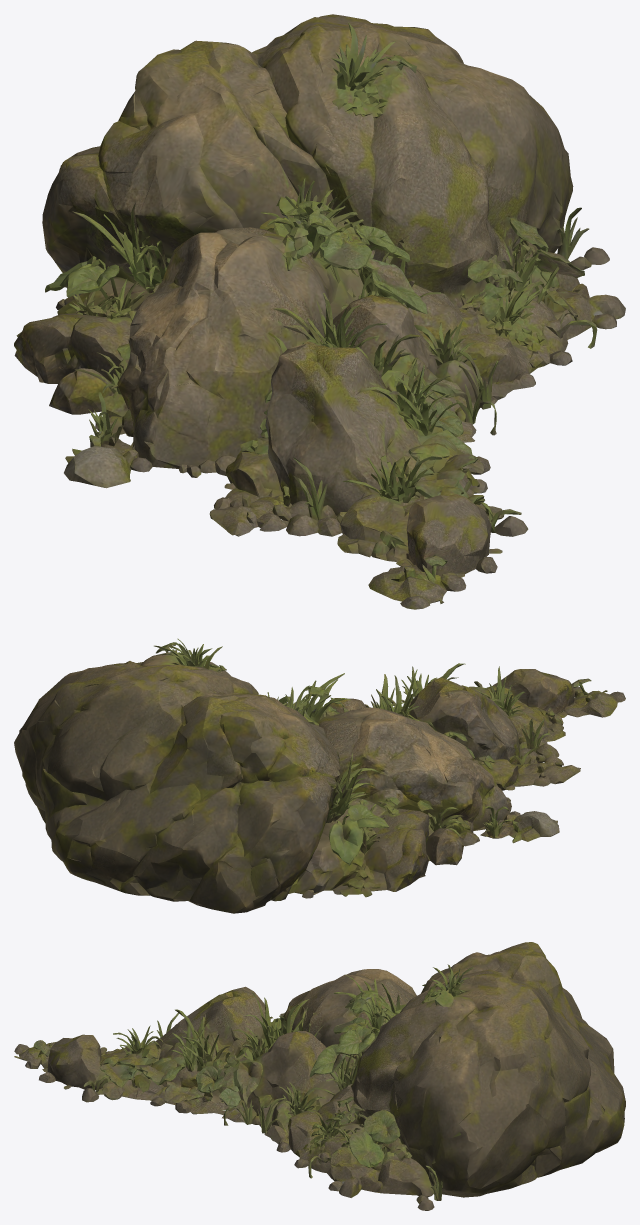
The model's file is pull-riverbank-cluster-a.glb.
3 views of the same model, one above another, from view 1: azimuth 30°, elevation 25°; view 2: azimuth 150°, elevation 25°; view 3: azimuth 270°, elevation 25° (orthographic). The views are drawn at different scales.
Visible parts, largest first — view 1: output_unwrapped; view 2: output_unwrapped; view 3: output_unwrapped.
Part boxes in pixels (box(x1,y1,x2,y2)): output_unwrapped: box(14, 14, 625, 609); output_unwrapped: box(14, 638, 625, 913); output_unwrapped: box(14, 942, 625, 1210).
Bounding box in the file's own units: 1.5 × 0.5979 × 1.92.
1 material, 1 textured.
